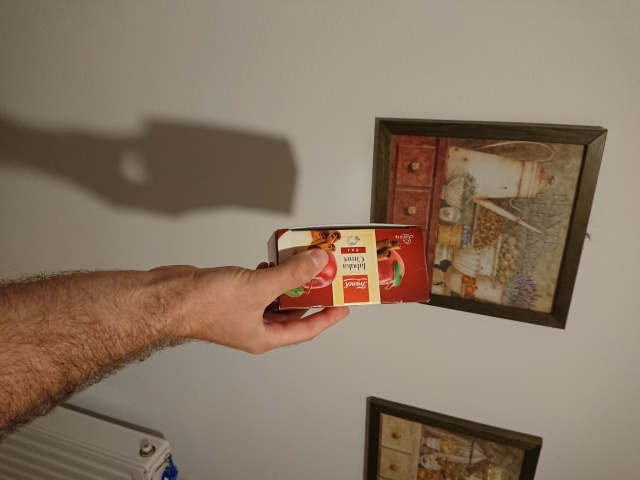Franck Apple Cinnamon Tea 60g: (264, 220, 434, 313)
